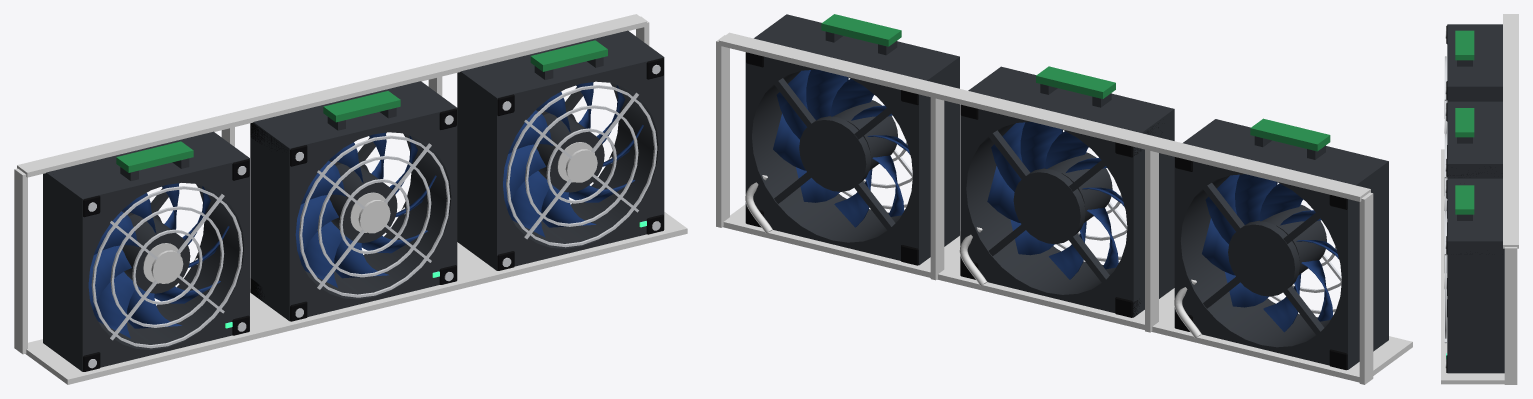
The model's file is hwm_cool_blower_1u.glb.
The picture shows the model from 3 angles, left to right: view 1: azimuth 30°, elevation 25°; view 2: azimuth 150°, elevation 25°; view 3: azimuth 270°, elevation 25°; orthographic projection. The views are drawn at different scales.
Visible parts, largest first — view 1: Body, Rotor_Z_2, Rotor_Z_0, Rotor_Z_1; view 2: Body, Rotor_Z_1, Rotor_Z_2, Rotor_Z_0; view 3: Body.
Boxes of the visible parts, x1,y1,x2,y2 form: Body: (14, 14, 687, 384); Rotor_Z_2: (503, 82, 643, 237); Rotor_Z_0: (88, 183, 229, 338); Rotor_Z_1: (295, 132, 436, 287); Body: (716, 14, 1412, 384); Rotor_Z_1: (987, 122, 1124, 279); Rotor_Z_2: (773, 69, 910, 227); Rotor_Z_0: (1202, 174, 1338, 332); Body: (1441, 14, 1518, 384).
Size of the model in its own units: 0.3478 by 0.1033 by 0.049.
